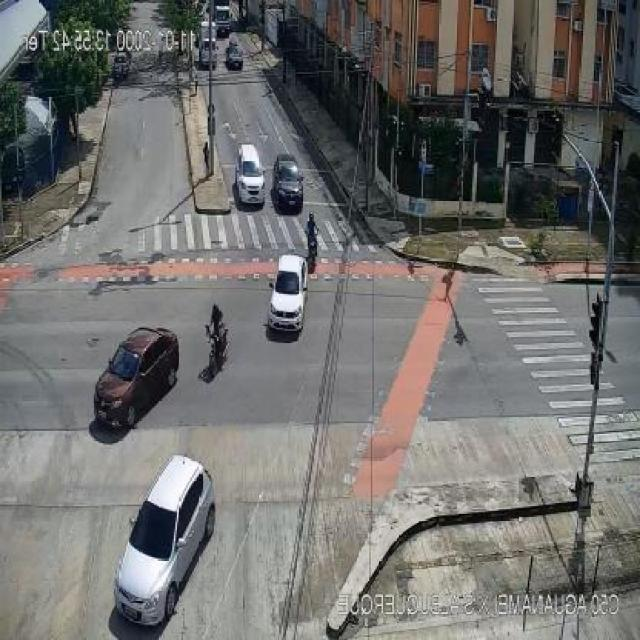Car: (102, 449, 235, 634), (86, 305, 184, 442), (254, 253, 320, 348), (271, 138, 316, 214), (228, 139, 269, 209)
Cycle: (197, 292, 237, 384), (296, 210, 331, 284)
